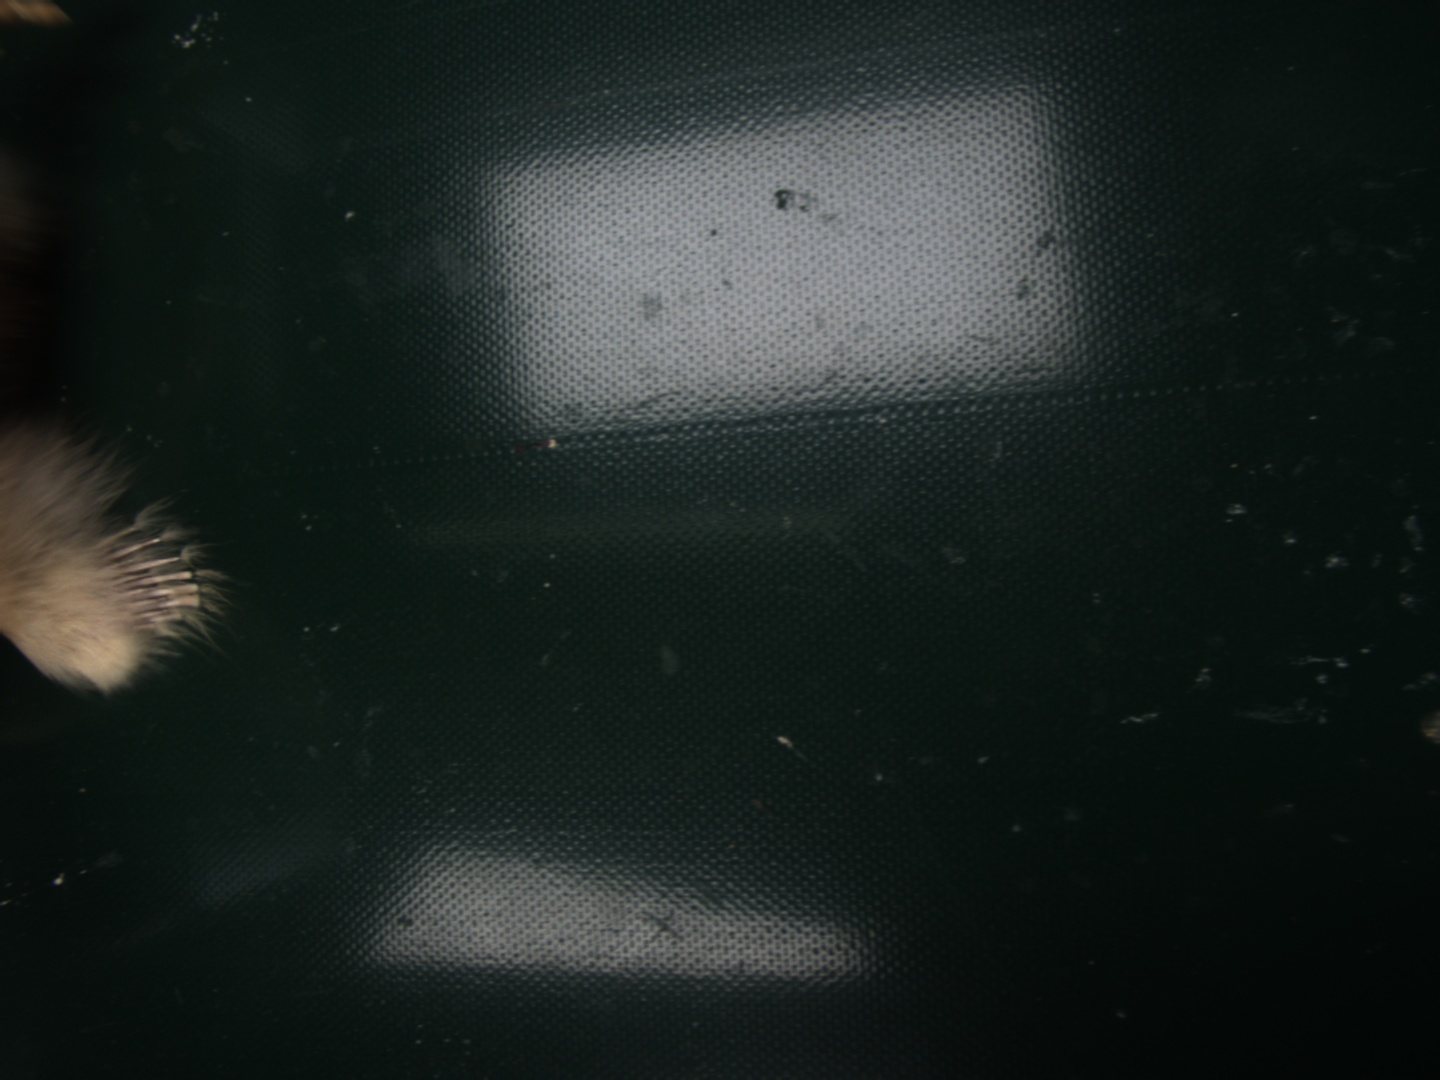female: (93, 522, 200, 639)
